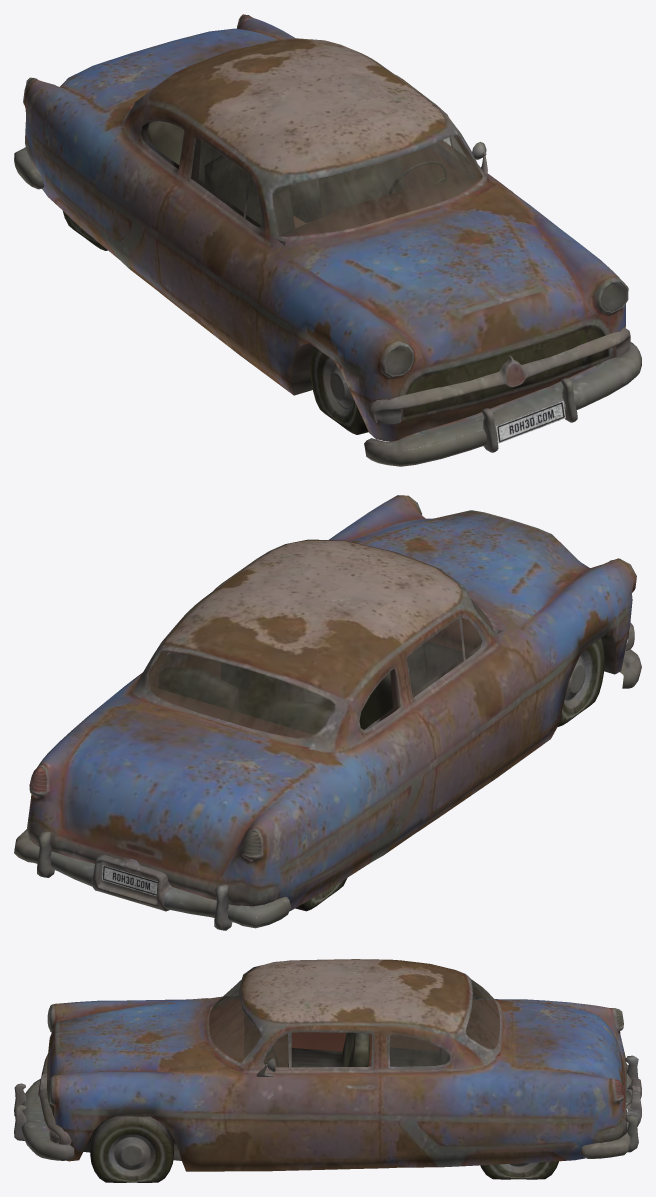
File: car_hudson.glb
3 views of the same model, one above another, from view 1: azimuth 30°, elevation 25°; view 2: azimuth 150°, elevation 25°; view 3: azimuth 270°, elevation 25° (orthographic). The views are drawn at different scales.
Visible parts, largest first — view 1: Object_2, Object_3; view 2: Object_2, Object_3; view 3: Object_2, Object_3.
Part boxes in pixels (x1,y1,x2,y2): Object_2: (23, 14, 641, 464); Object_3: (14, 15, 638, 466); Object_2: (14, 495, 641, 930); Object_3: (14, 516, 639, 930); Object_2: (14, 959, 641, 1182); Object_3: (14, 978, 641, 1182).
Size of the model in its own units: 2031 by 1433 by 5181.
Materials: 1 (1 with a texture image).
